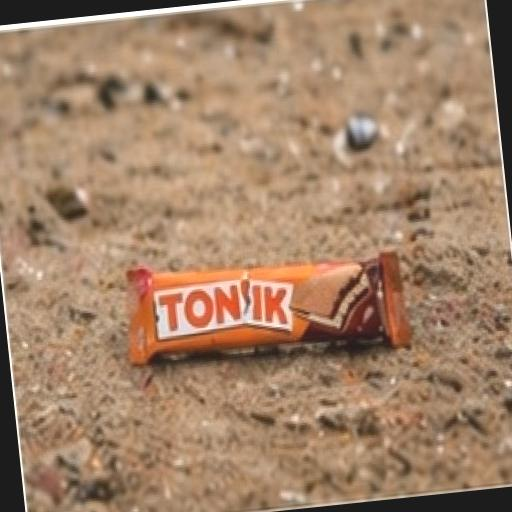tonik: (97, 114, 483, 462)
